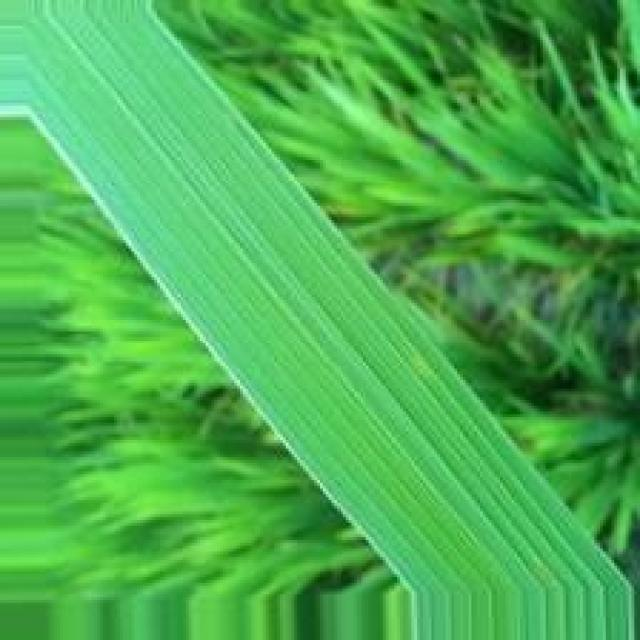HealthyLeaf: (4, 0, 640, 640)
